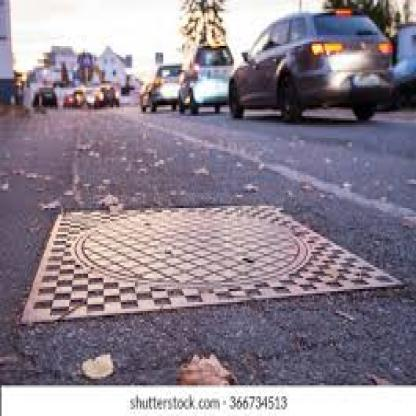closed manhole-not overflowing-: (15, 169, 402, 302)
